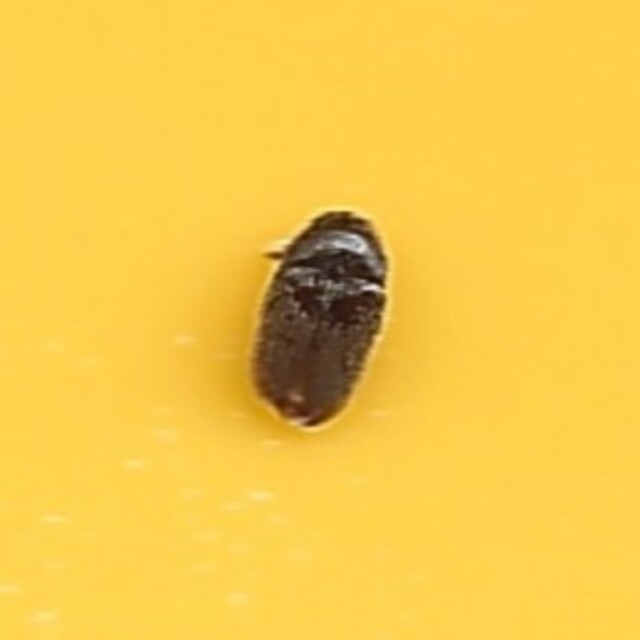Coleoptera: (247, 207, 393, 433)
